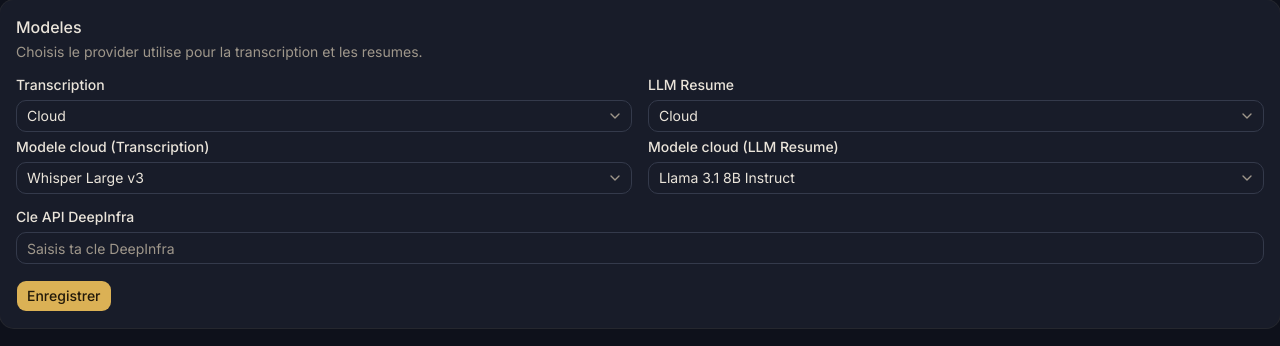
it: <ModelSettingsCard> › affiche le champ chemin local uniquement quand Local est selectionne
The width and height of the screenshot is (1280, 346).
Expected: the field labelled "chemin du modele local (transcription)" is not shown
Expected: the field labelled "chemin du modele local (llm resume)" is not shown
Click the dropdown named "Transcription" at (46, 116), box [16,100,632,132]
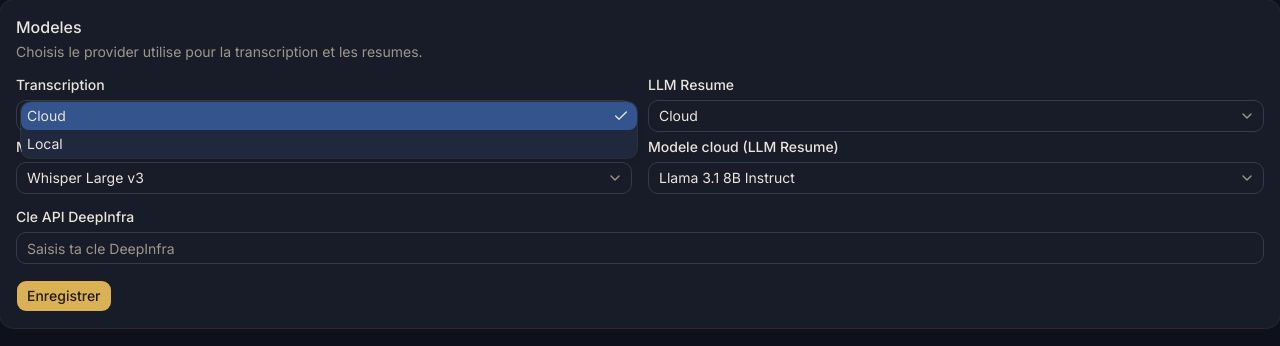
Click the option "Local" at (45, 144), box [27,135,63,152]
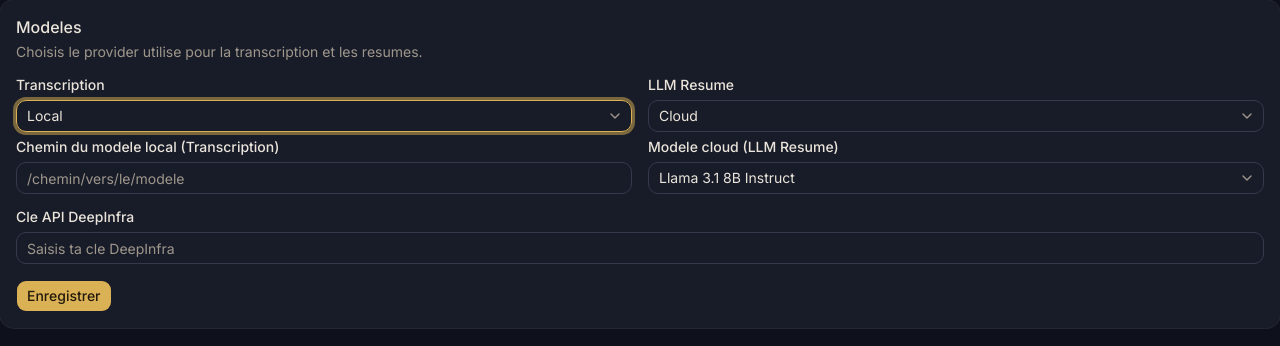
Expected: the field labelled "chemin du modele local (llm resume)" is not shown
Now the field labelled "Chemin du modele local (Transcription)" is shown, box [16,162,632,194]
Click the dropdown named "LLM Resume" at (678, 116), box [648,100,1264,132]
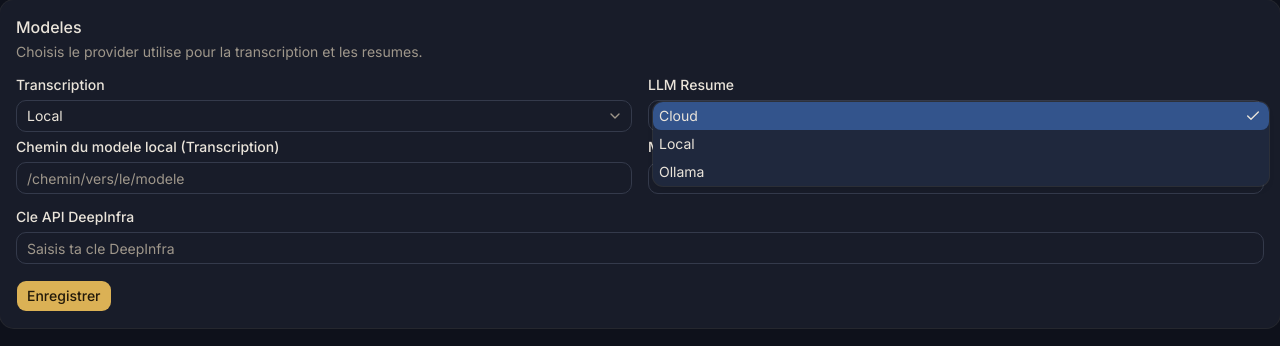
Click the option "Local" at (677, 144), box [659,135,695,152]
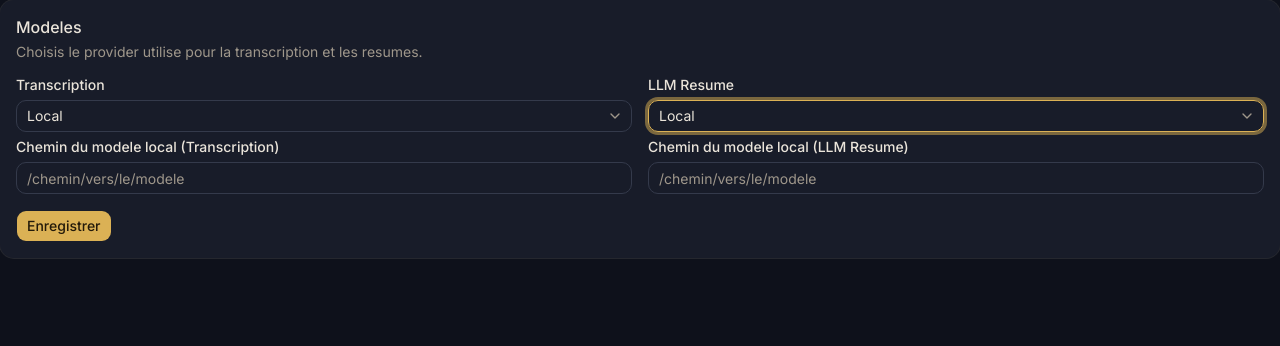
Now the field labelled "Chemin du modele local (LLM Resume)" is shown, box [648,162,1264,194]
